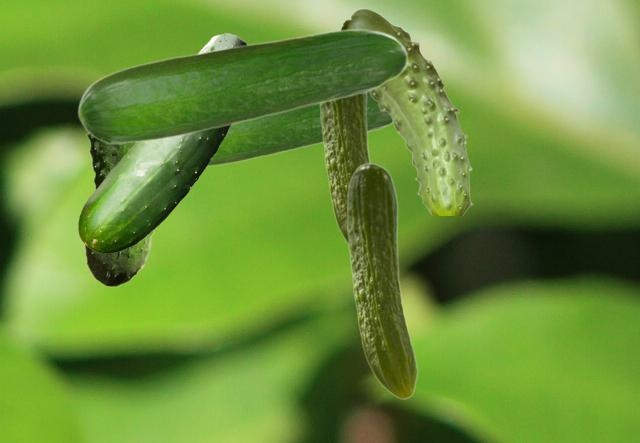cucumber: (77, 28, 407, 144), (78, 33, 246, 252), (340, 8, 472, 214), (346, 162, 417, 399), (207, 93, 391, 167), (84, 133, 154, 286), (319, 94, 370, 243)
